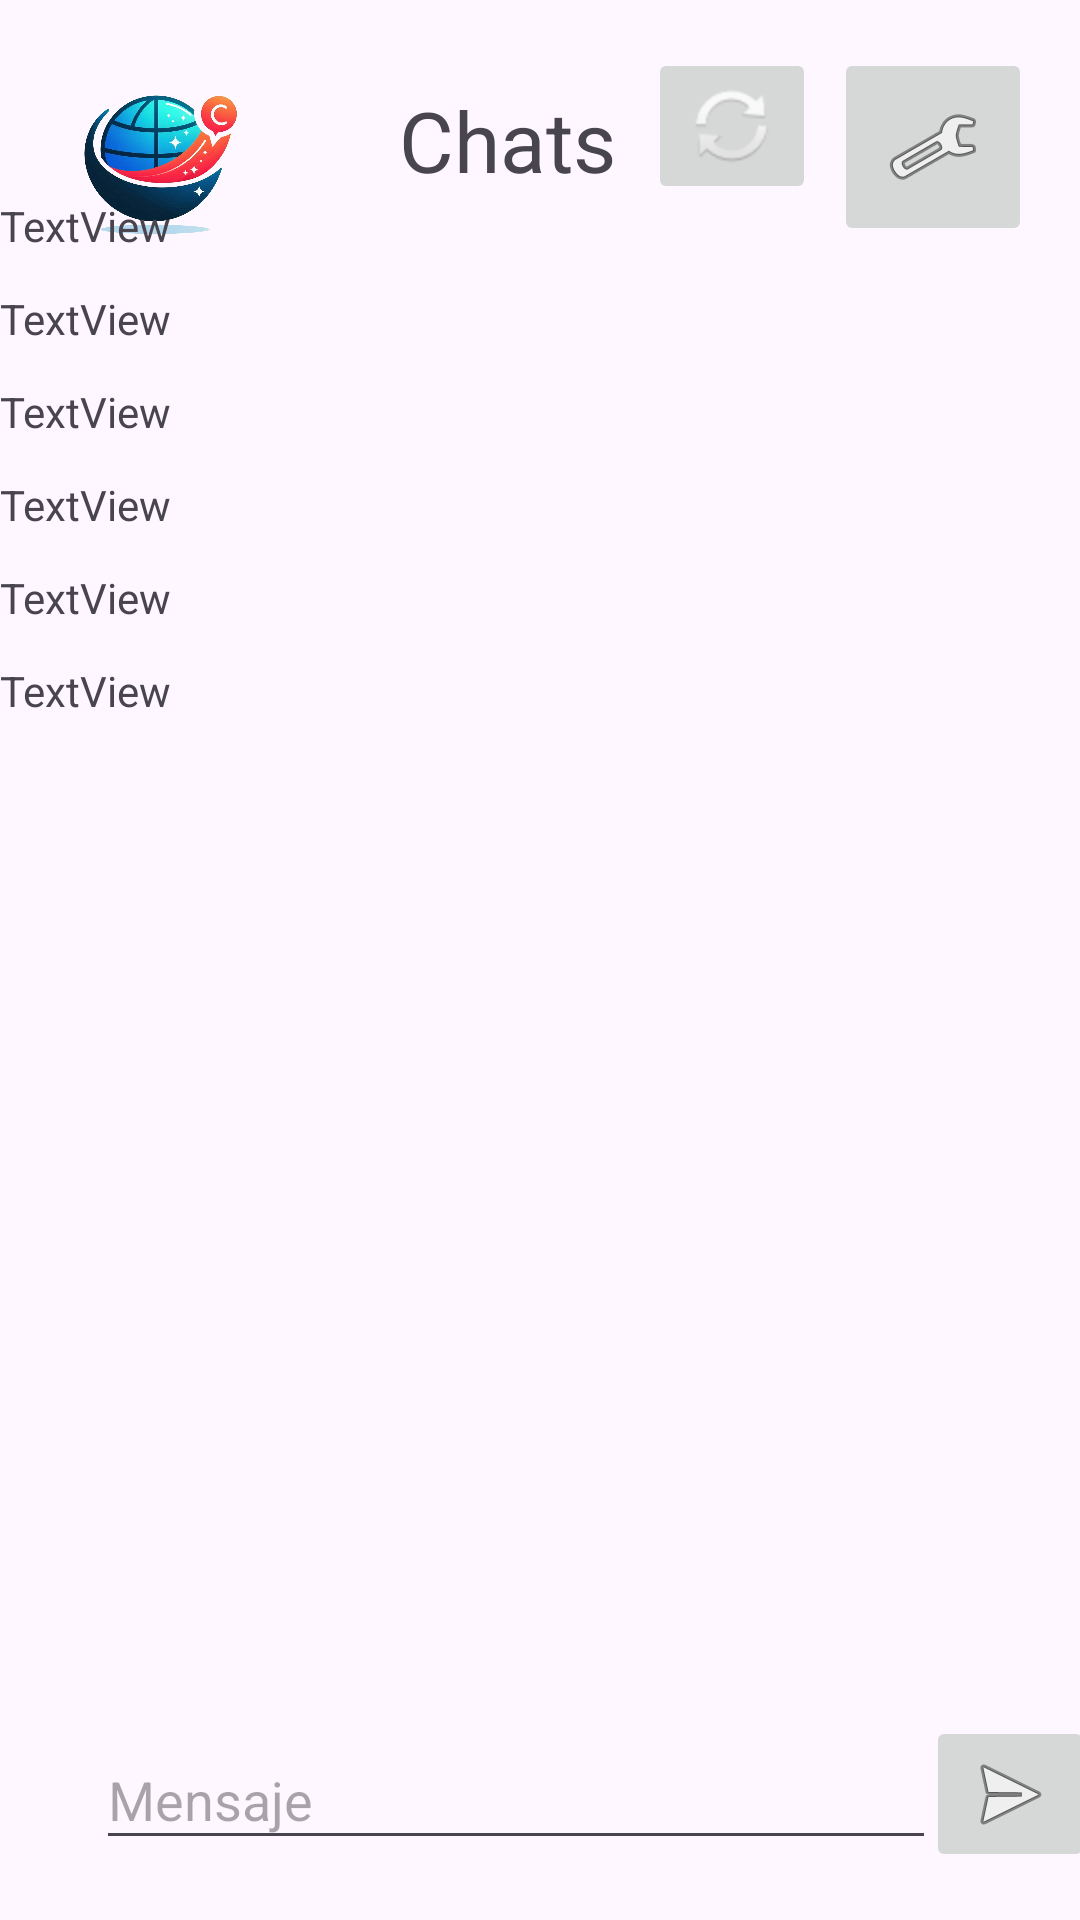

Icons on this 1080x1920 Android screen, each with its box as bbox(x1, y1, x2, y2):
popup sync: bbox(660, 66, 804, 186)
preferences: bbox(846, 66, 1020, 228)
send: bbox(938, 1734, 1080, 1854)
